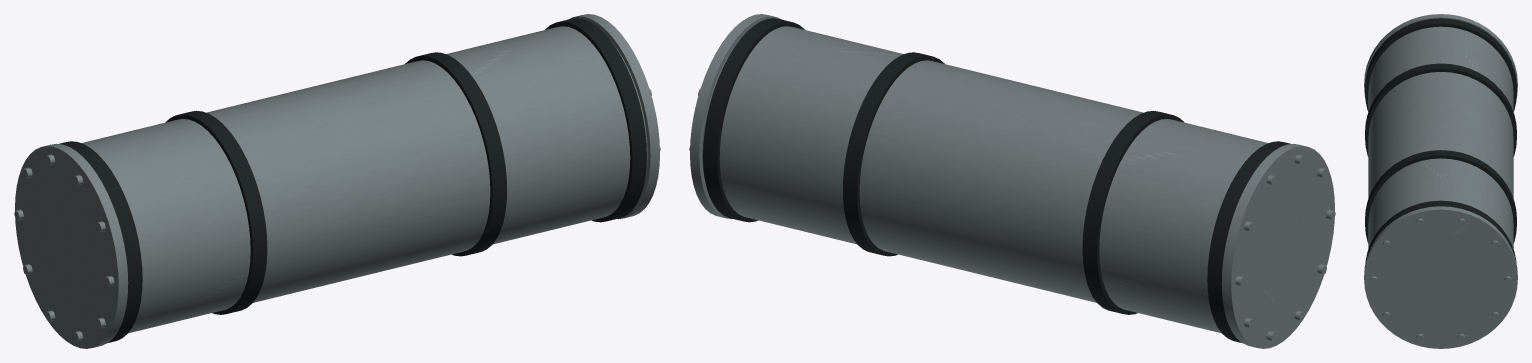
Rendered from survey-pressure-housing.glb.
3 renders of one model, left to right at view 1: azimuth 30°, elevation 25°; view 2: azimuth 150°, elevation 25°; view 3: azimuth 270°, elevation 25°, orthographic. The views are drawn at different scales.
Visible parts, largest first — view 1: Pressure housing, Retaining collar; view 2: Pressure housing, Retaining collar; view 3: Pressure housing, Retaining collar.
Boxes of the visible parts, x1,y1,x2,y2 form: Pressure housing: (14, 14, 660, 348); Retaining collar: (59, 18, 646, 342); Pressure housing: (689, 14, 1335, 348); Retaining collar: (703, 18, 1290, 342); Pressure housing: (1364, 14, 1517, 348); Retaining collar: (1365, 18, 1516, 263).
Size of the model in its own units: 1.1 by 0.36 by 0.36.
Materials: 2 (2 with a texture image).
